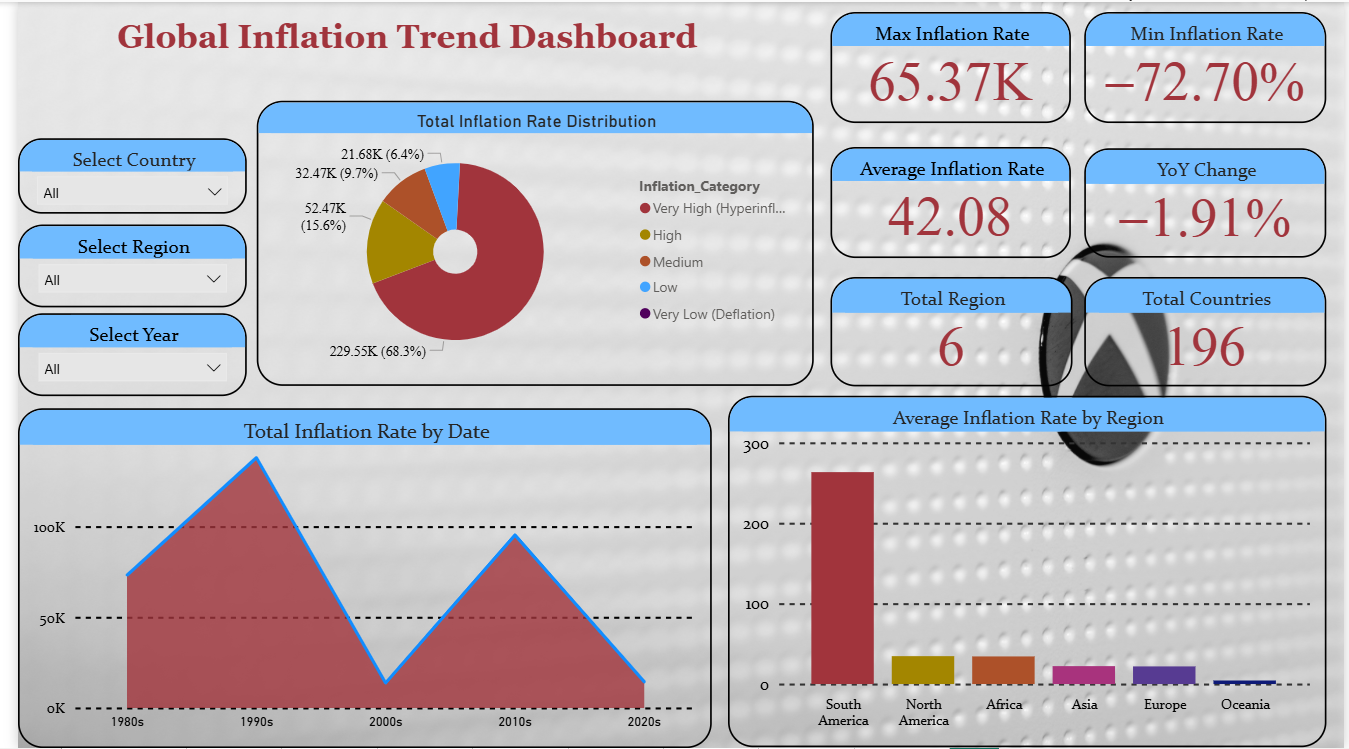

The page's visual inventory and layout, read from the dashboard file:
{"tool":"powerbi","page":{"name":"Dashboard","canvas":[1280,720],"ordinal":0},"visuals":[{"type":"areaChart","title":"Total Inflation Rate by Date","fields":{"Y":["Sum(Fact_inflation_data.Inflation_rate)"],"Category":["Dim_Year.Decade Hierarchy.Decade","Dim_Year.Decade Hierarchy.Half Decade","Dim_Year.Decade Hierarchy.Year"]},"box":[0,392,669.9,327.8],"z":0},{"type":"card","title":"Max Inflation Rate","fields":{"Values":["Max(Fact_inflation_data.Inflation_rate)"]},"box":[784,10,232.3,106.9],"z":1000},{"type":"slicer","title":"Select Region ","fields":{"Values":["Dim_Region.Region_"]},"box":[0,215.2,220.9,79.8],"z":2000},{"type":"slicer","title":"Select Country","fields":{"Values":["Dim_Region.country_name"]},"box":[0,131.1,220.9,72.7],"z":3000},{"type":"card","title":"Min Inflation Rate","fields":{"Values":["Fact_inflation_data.MIN_inflation"]},"box":[1029.1,10,233.8,106.9],"z":4000},{"type":"card","title":"YoY Change","fields":{"Values":["Fact_inflation_data.Average of Inflation_rate YoY%"]},"box":[1029.1,141.1,233.8,105.5],"z":5000},{"type":"clusteredColumnChart","title":"Average Inflation Rate by Region","fields":{"Category":["Dim_Region.Region_"],"Y":["Avg(Fact_inflation_data.Inflation_rate)"]},"box":[685.6,380.6,577.3,339.2],"z":6000},{"type":"donutChart","title":"Total Inflation Rate Distribution","fields":{"Category":["Fact_inflation_data.Inflation_Category"],"Y":["Sum(Fact_inflation_data.Inflation_rate)"]},"box":[230.9,95.5,537.4,275.1],"z":7000},{"type":"textbox","box":[12.8,10,672.8,69.8],"z":8000},{"type":"card","title":"Total Countries","fields":{"Values":["CountNonNull(Dim_Region.country_name)"]},"box":[1029.1,265.1,233.8,105.5],"z":9000},{"type":"card","title":"Average Inflation Rate","fields":{"Values":["Fact_inflation_data.average_inflation_rate"]},"box":[784,139.7,232.3,106.9],"z":10000},{"type":"card","title":"Total Inflation Rate","fields":{"Values":["Sum(Fact_inflation_data.Inflation_rate)"]},"box":[784,265.1,233.8,105.5],"z":11000},{"type":"slicer","title":"Select Year","fields":{"Values":["Dim_Year.Year"]},"box":[0,300.8,220.9,79.8],"z":12000}]}

Visuals, with their boxes in screenshot pixels (x1, y1, x2, y2), scaled from the page's 1280x720 canvas onto the 1349x749 screenshot:
"Total Inflation Rate by Date" areaChart: [0, 408, 706, 748]
"Max Inflation Rate" card: [826, 10, 1071, 122]
"Select Region " slicer: [0, 224, 233, 307]
"Select Country" slicer: [0, 136, 233, 212]
"Min Inflation Rate" card: [1085, 10, 1331, 122]
"YoY Change" card: [1085, 147, 1331, 257]
"Average Inflation Rate by Region" clusteredColumnChart: [723, 396, 1331, 748]
"Total Inflation Rate Distribution" donutChart: [243, 99, 810, 386]
textbox: [13, 10, 723, 83]
"Total Countries" card: [1085, 276, 1331, 386]
"Average Inflation Rate" card: [826, 145, 1071, 257]
"Total Inflation Rate" card: [826, 276, 1073, 386]
"Select Year" slicer: [0, 313, 233, 396]
